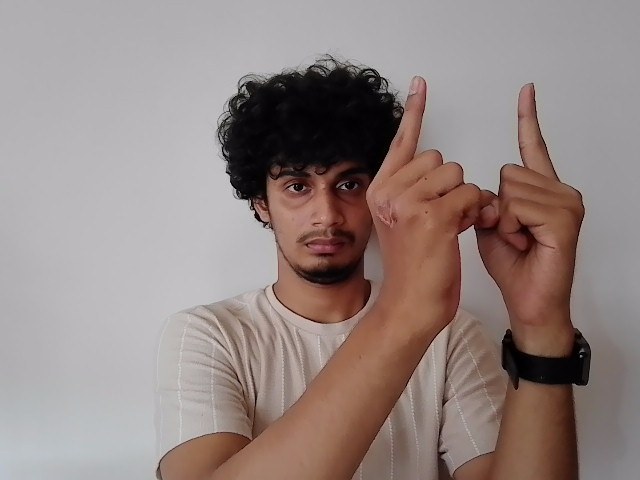play: (358, 74, 597, 321)
